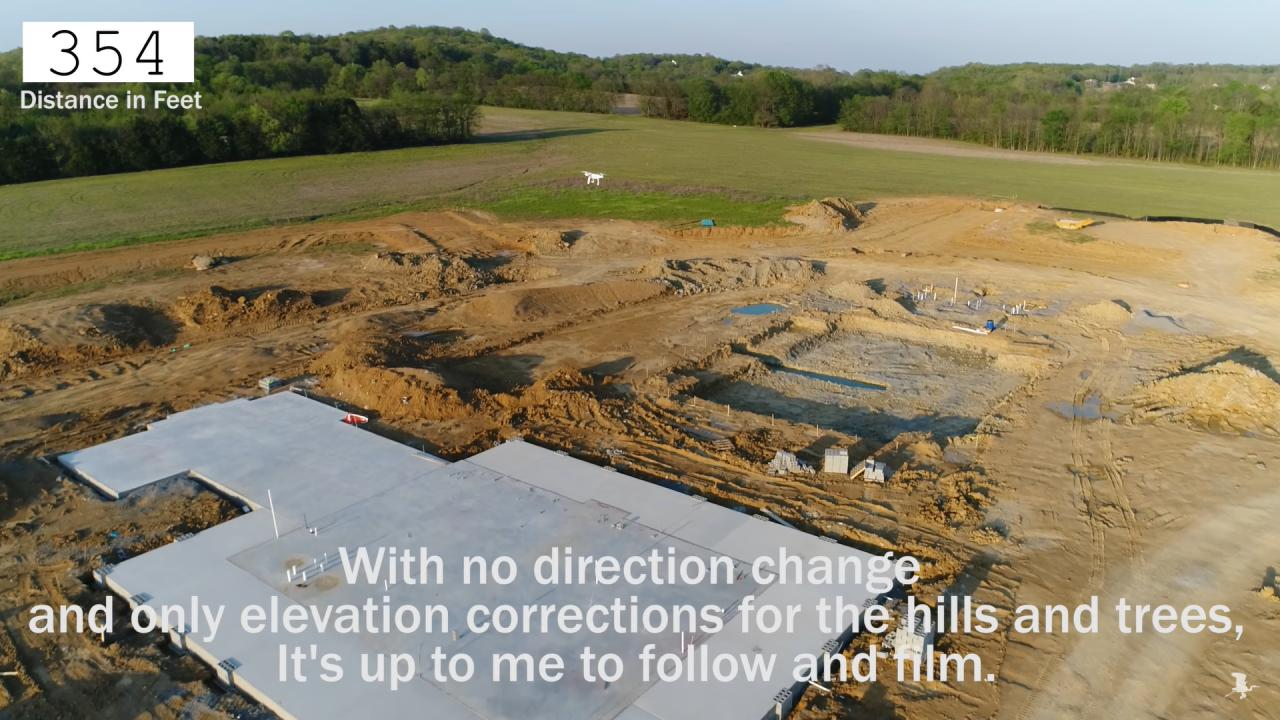Drone: (574, 162, 613, 194)
